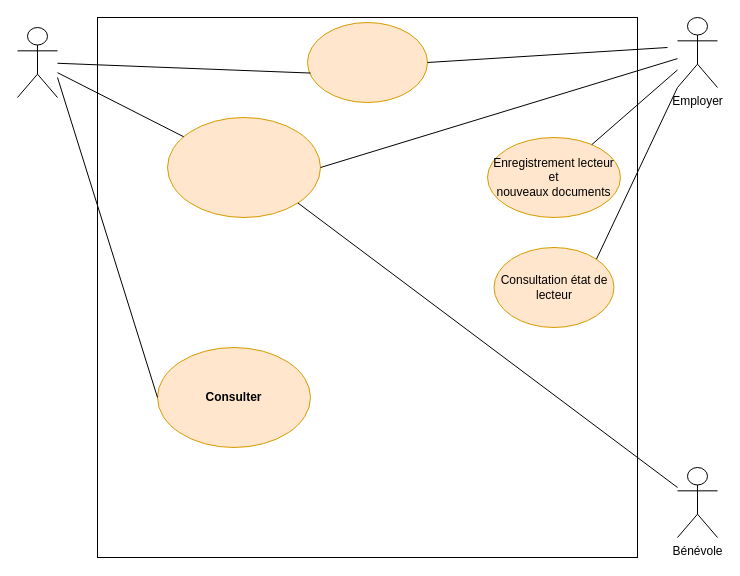
This 740x576 diagram has some shape labels left out. The shapes that lost their labels are listed below. From the top down, each one's centre as x and y in pixels, then its label:
pixel 37 62: Client
pixel 367 62: Création de cartes de lecteur
pixel 243 167: Emprunt
